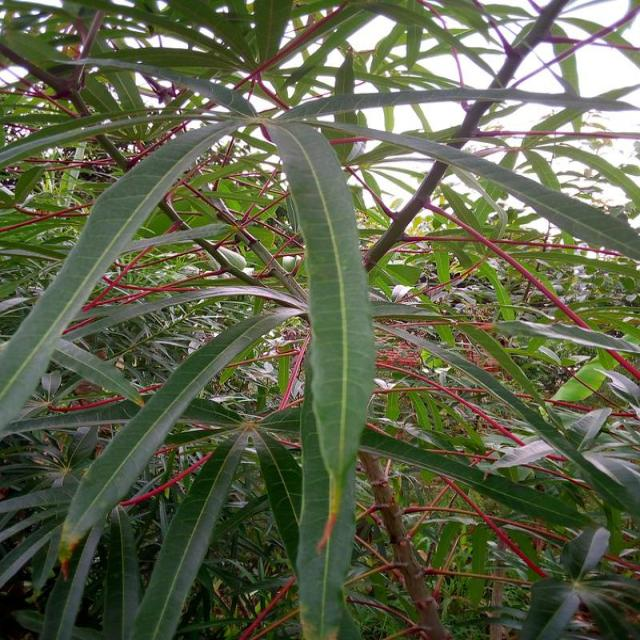cassava leaf: (0, 112, 256, 436), (262, 114, 376, 496)
